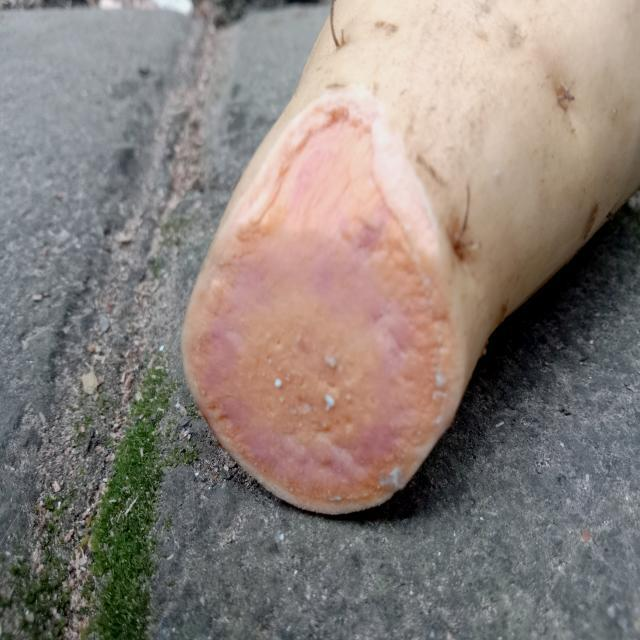Healthy Sweet Potato: (182, 90, 459, 513)
